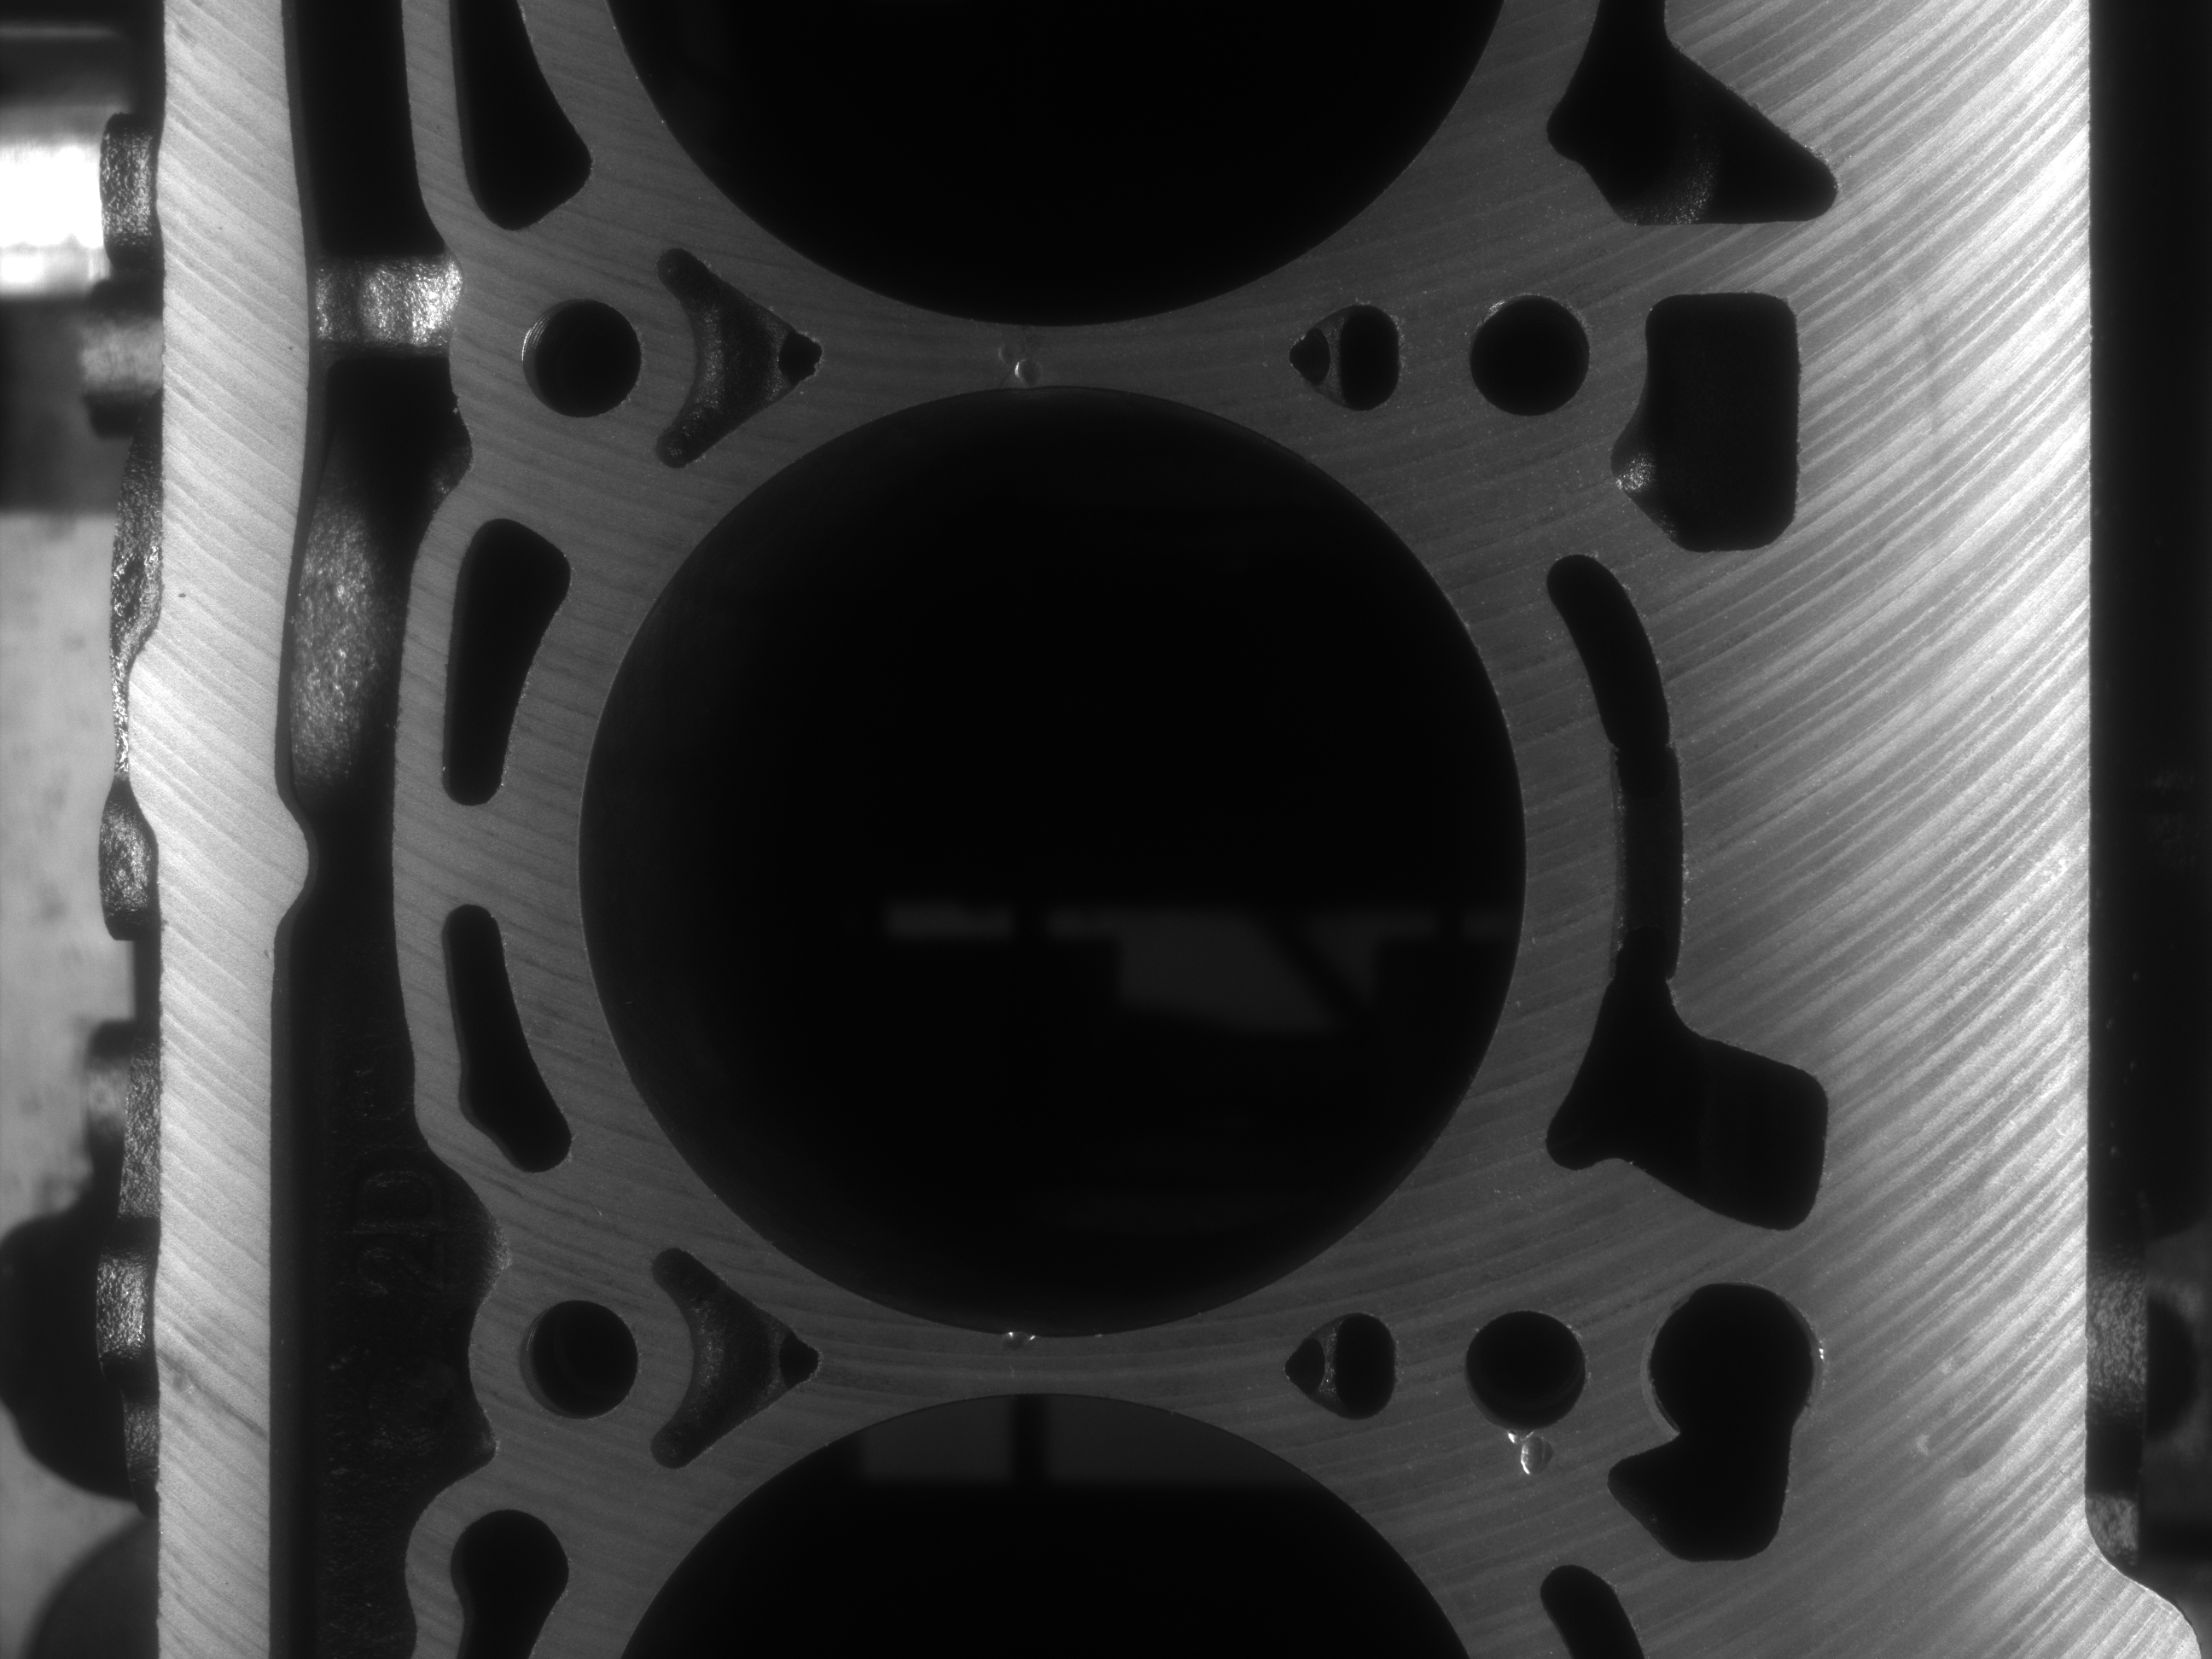sandhole: (1505, 1425, 1559, 1481), (995, 354, 1045, 385)
shrinkage: (993, 1321, 1045, 1347)
